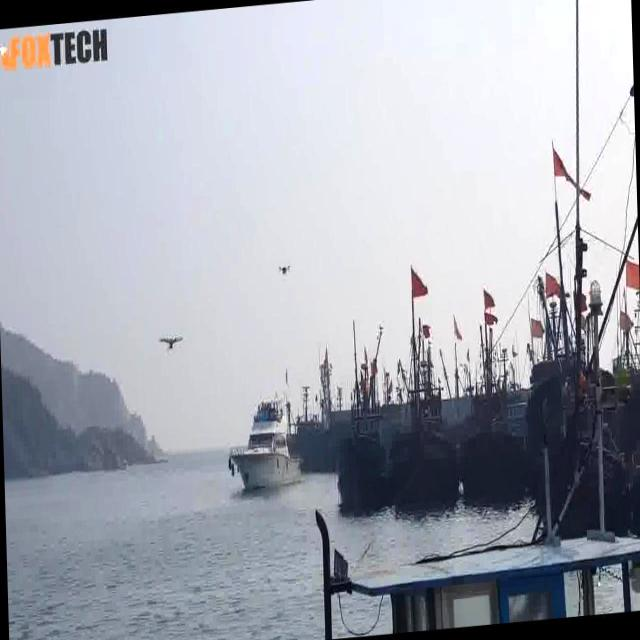drone: (154, 328, 190, 358), (274, 256, 297, 283)
